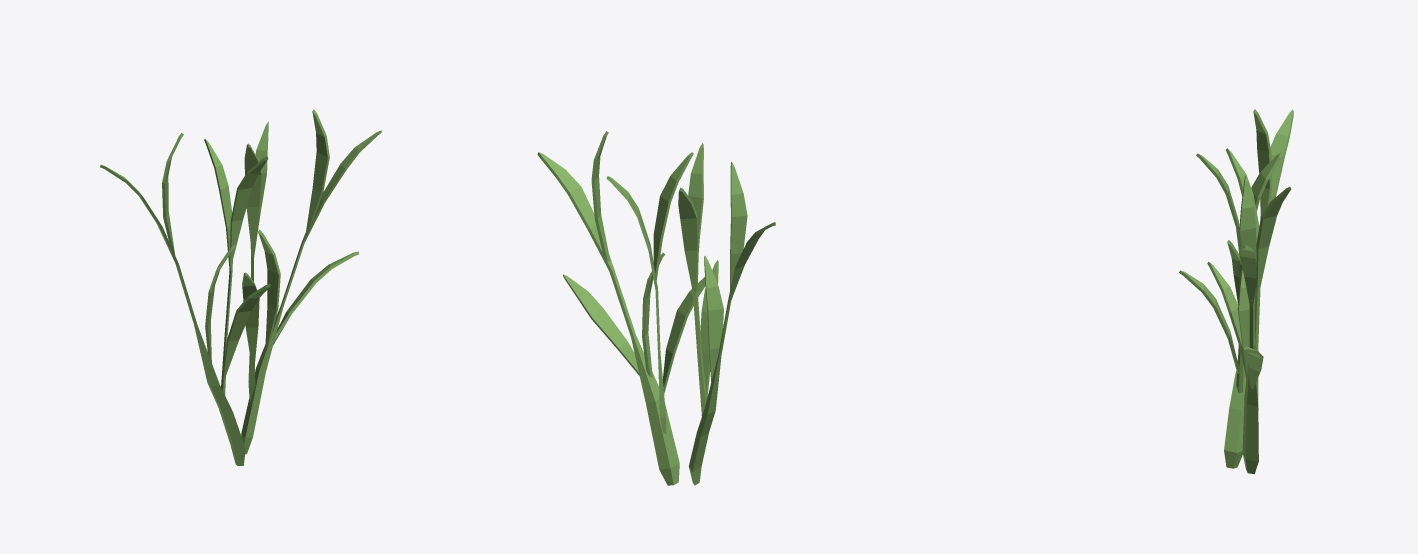
The model's file is rice-plant-1.glb.
The picture shows the model from 3 angles, left to right: view 1: azimuth 30°, elevation 25°; view 2: azimuth 150°, elevation 25°; view 3: azimuth 270°, elevation 25°; orthographic projection.
Parts seen in each view (by area): view 1: Rice_3; view 2: Rice_3; view 3: Rice_3.
Part boxes in pixels (x1,y1,x2,y2): Rice_3: [100, 109, 381, 465]; Rice_3: [537, 131, 775, 485]; Rice_3: [1179, 109, 1293, 474].
Bounding box in the file's own units: 0.9856 × 0.9675 × 0.8808.
